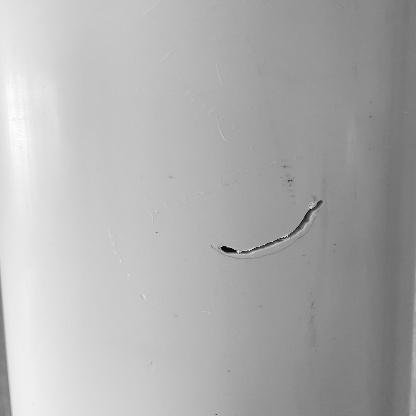fengxi: (218, 199, 329, 259)
